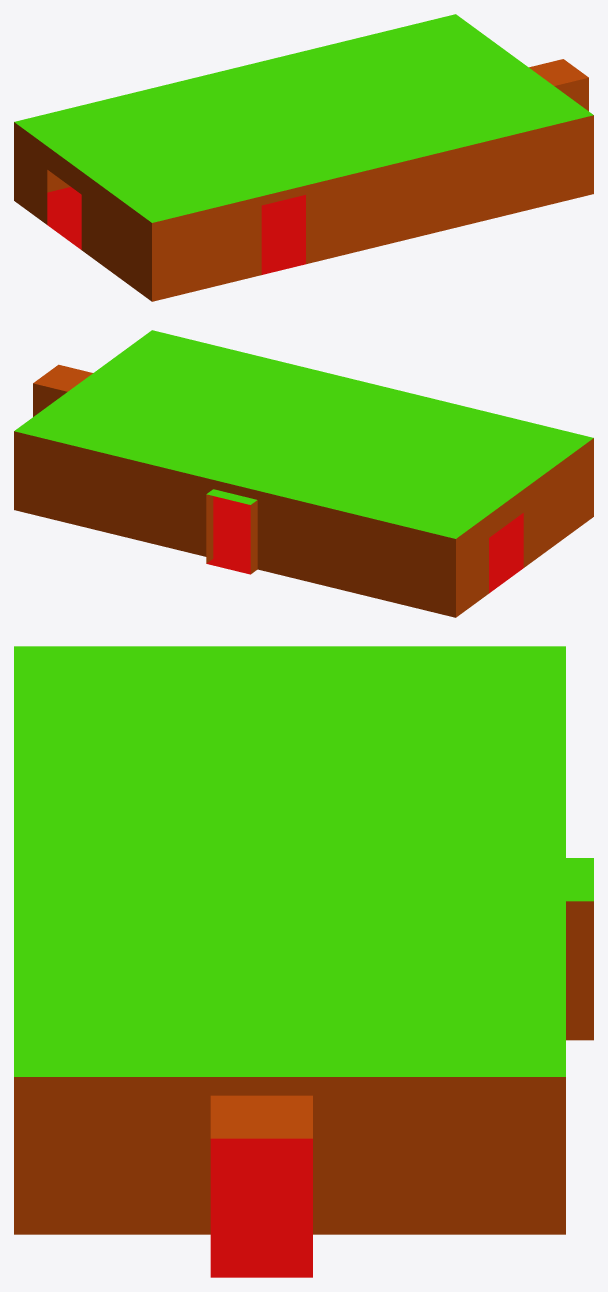
The model's file is room 2.obj.
3 views of the same model, one above another, from view 1: azimuth 30°, elevation 25°; view 2: azimuth 150°, elevation 25°; view 3: azimuth 270°, elevation 25° (orthographic). The views are drawn at different scales.
Parts seen in each view (by area): view 1: result.003_Cube.003_top, result.003_Cube.003_wall, result.003_Cube.003_bottom; view 2: result.003_Cube.003_top, result.003_Cube.003_wall, result.003_Cube.003_bottom; view 3: result.003_Cube.003_top, result.003_Cube.003_wall, result.003_Cube.003_bottom.
Part boxes in pixels (x1,y1,x2,y2): result.003_Cube.003_top: (14,14,593,222); result.003_Cube.003_wall: (14,59,593,301); result.003_Cube.003_bottom: (47,187,305,274); result.003_Cube.003_top: (14,330,593,538); result.003_Cube.003_wall: (14,364,593,617); result.003_Cube.003_bottom: (206,496,523,593); result.003_Cube.003_top: (14,646,593,1076); result.003_Cube.003_wall: (14,901,593,1234); result.003_Cube.003_bottom: (210,1138,312,1277).
Bounding box in the file's own units: 21.95 × 3.4 × 11.35.
